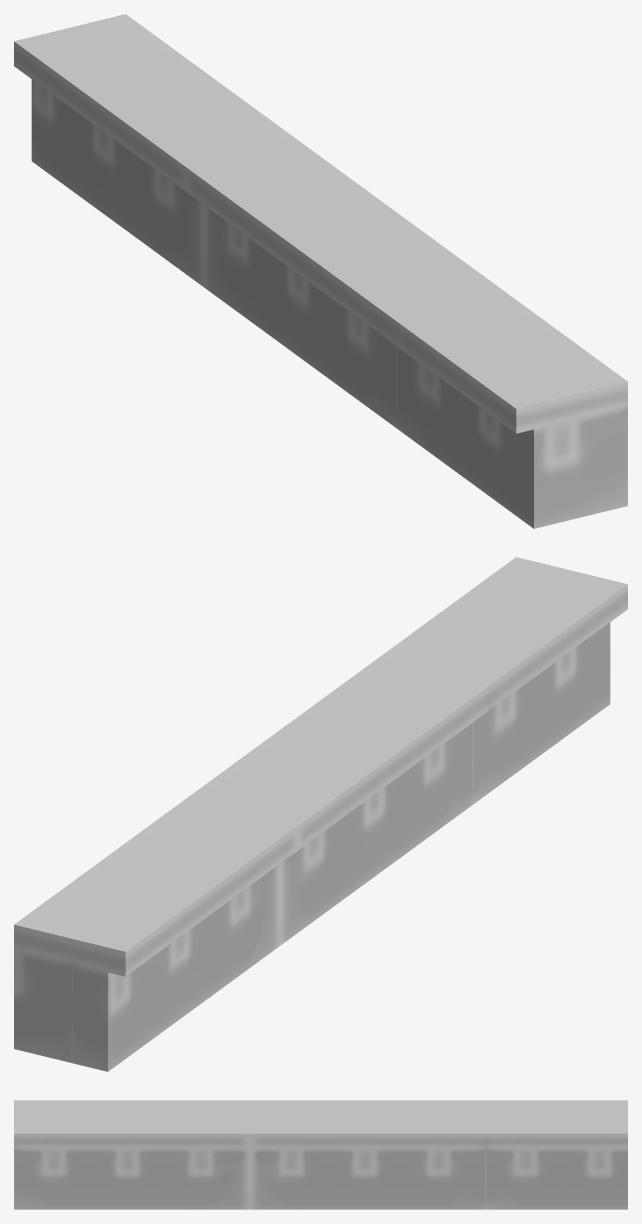
The model's file is Banister_c.fbx.
The picture shows the model from 3 angles, top to bottom: view 1: azimuth 30°, elevation 25°; view 2: azimuth 150°, elevation 25°; view 3: azimuth 270°, elevation 25°; orthographic projection. The views are drawn at different scales.
Visible parts, largest first — view 1: pCube28; view 2: pCube28; view 3: pCube28.
Boxes of the visible parts, box(x1,y1,x2,y2) form: pCube28: box(14, 14, 627, 528); pCube28: box(14, 557, 627, 1071); pCube28: box(14, 1100, 627, 1209).
Bounding box in the file's own units: 1.19 × 1.26 × 9.25.
